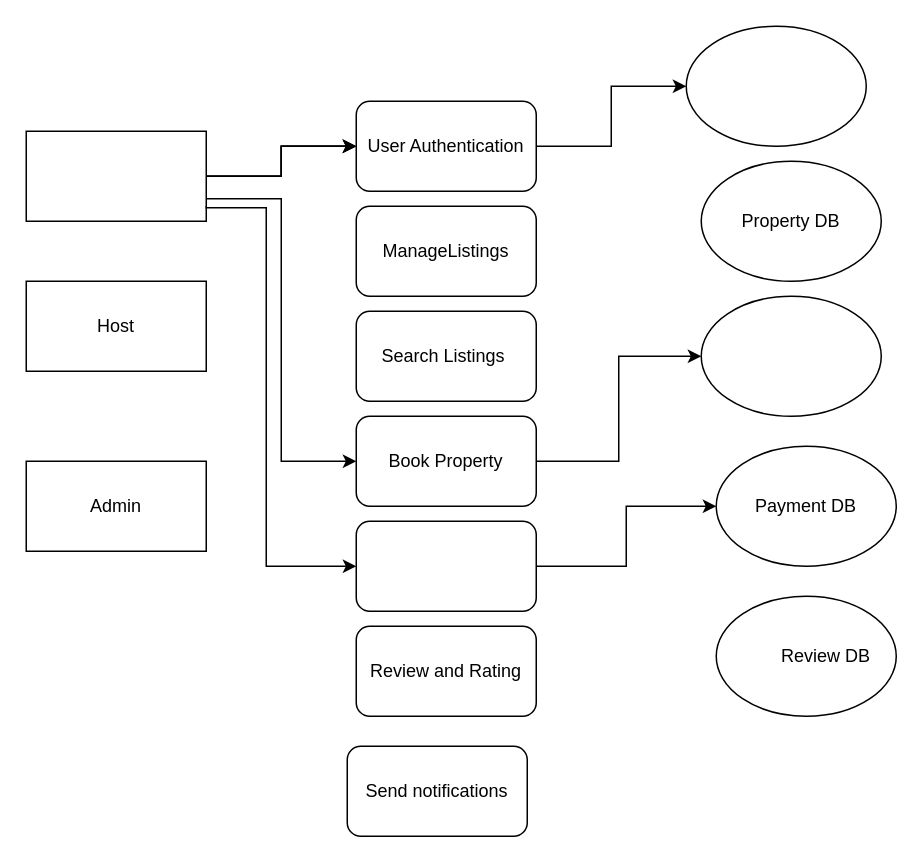
The diagram is 923 pixels wide and 863 high, and some of its shapes have lost their labels. Each missing label, with the box of its shape:
Booking DB: (700, 295, 881, 416)
Guest: (25, 130, 206, 221)
Processs Payment: (355, 520, 536, 611)
User DB: (685, 25, 866, 146)
